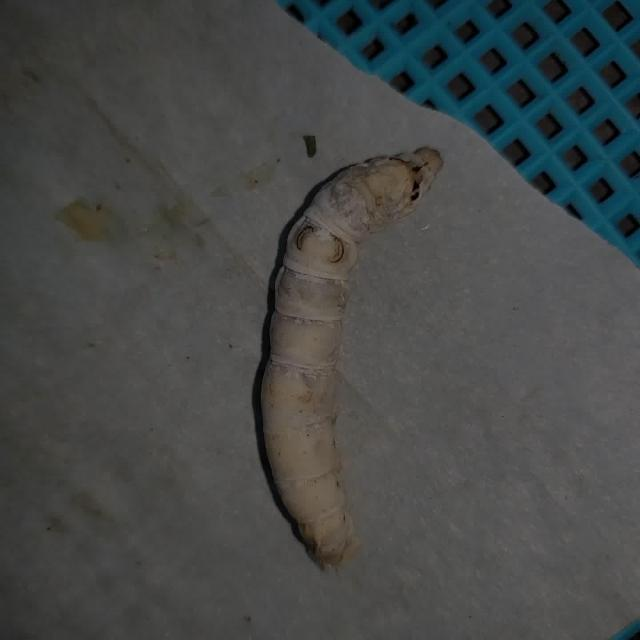Grasserie: (234, 118, 494, 600)
